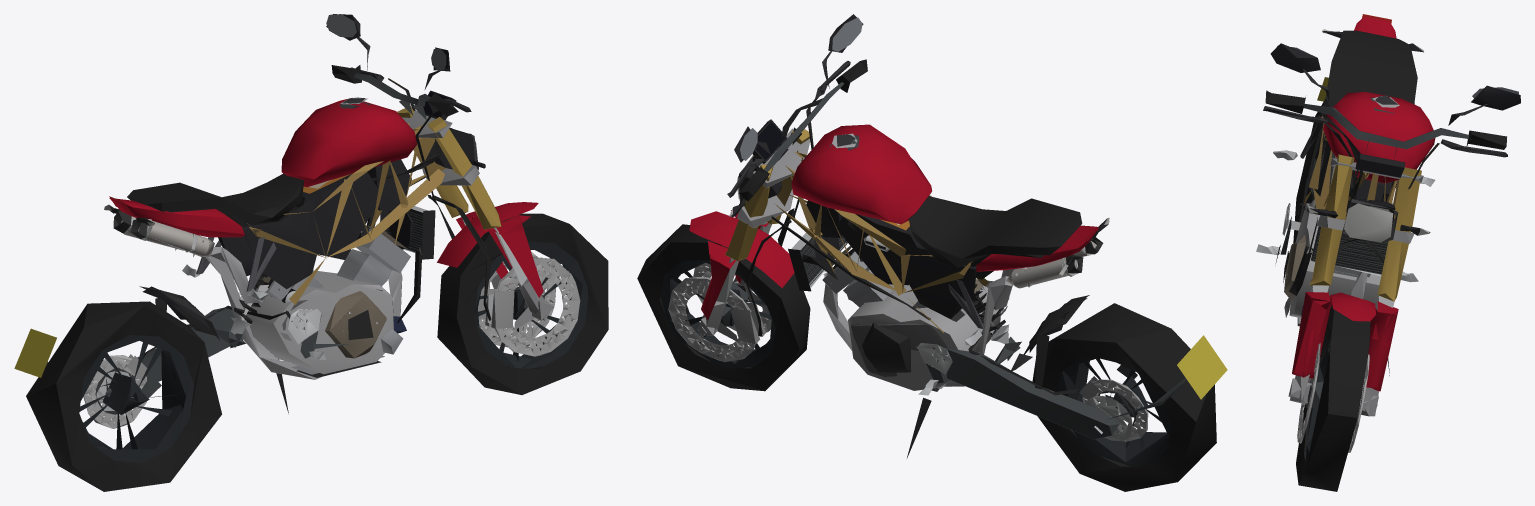
Rendered from SM_Prop_house_bike_7_LOD1.glb.
The picture shows the model from 3 angles, left to right: view 1: azimuth 30°, elevation 25°; view 2: azimuth 150°, elevation 25°; view 3: azimuth 270°, elevation 25°; orthographic projection. The views are drawn at different scales.
Parts seen in each view (by area): view 1: SM_Prop_house_bike_7_LOD1; view 2: SM_Prop_house_bike_7_LOD1; view 3: SM_Prop_house_bike_7_LOD1.
Boxes of the visible parts, box(x1,y1,x2,y2) form: SM_Prop_house_bike_7_LOD1: box(14, 14, 608, 491); SM_Prop_house_bike_7_LOD1: box(637, 14, 1227, 491); SM_Prop_house_bike_7_LOD1: box(1256, 14, 1520, 491).
Size of the model in its own units: 2.11 by 1.35 by 0.8225.
